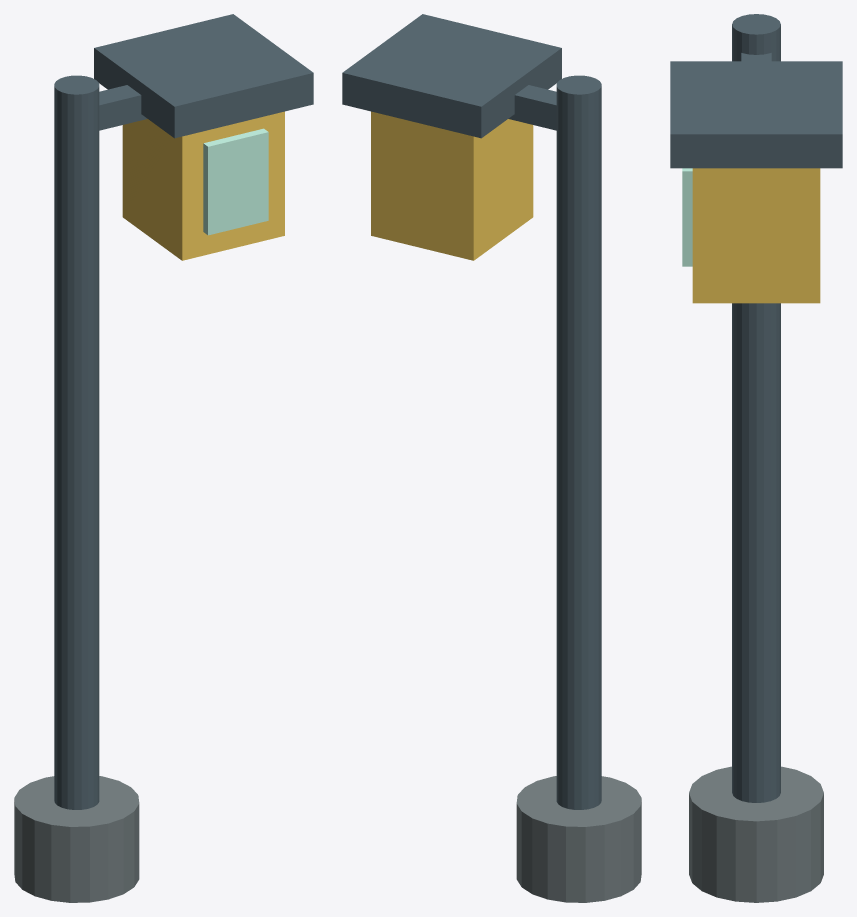
Rendered from bp_decorstreetlamp.glb.
The picture shows the model from 3 angles, left to right: view 1: azimuth 30°, elevation 25°; view 2: azimuth 150°, elevation 25°; view 3: azimuth 270°, elevation 25°; orthographic projection. The views are drawn at different scales.
Parts seen in each view (by area): view 1: Pole, Roof, Lantern, Base, LanternCore, Arm; view 2: Pole, Lantern, Roof, Base, Arm; view 3: Pole, Roof, Lantern, Base, LanternCore.
Boxes of the visible parts, left/top/right/bottom form: Pole: left=54, top=75, right=99, bottom=809; Roof: left=94, top=14, right=313, bottom=138; Lantern: left=122, top=111, right=284, bottom=260; Base: left=14, top=776, right=139, bottom=902; LanternCore: left=203, top=128, right=268, bottom=235; Arm: left=99, top=85, right=147, bottom=130; Pole: left=556, top=75, right=601, bottom=809; Lantern: left=371, top=111, right=533, bottom=260; Roof: left=342, top=14, right=561, bottom=138; Base: left=516, top=776, right=641, bottom=902; Arm: left=508, top=85, right=556, bottom=130; Pole: left=732, top=14, right=780, bottom=802; Roof: left=670, top=61, right=842, bottom=168; Lantern: left=692, top=168, right=820, bottom=303; Base: left=689, top=766, right=823, bottom=902; LanternCore: left=682, top=168, right=692, bottom=266.
Size of the model in its own units: 0.83 by 2.5 by 0.46.
